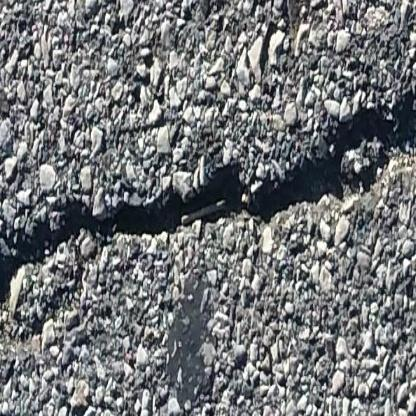Cracks: (0, 105, 416, 321)
